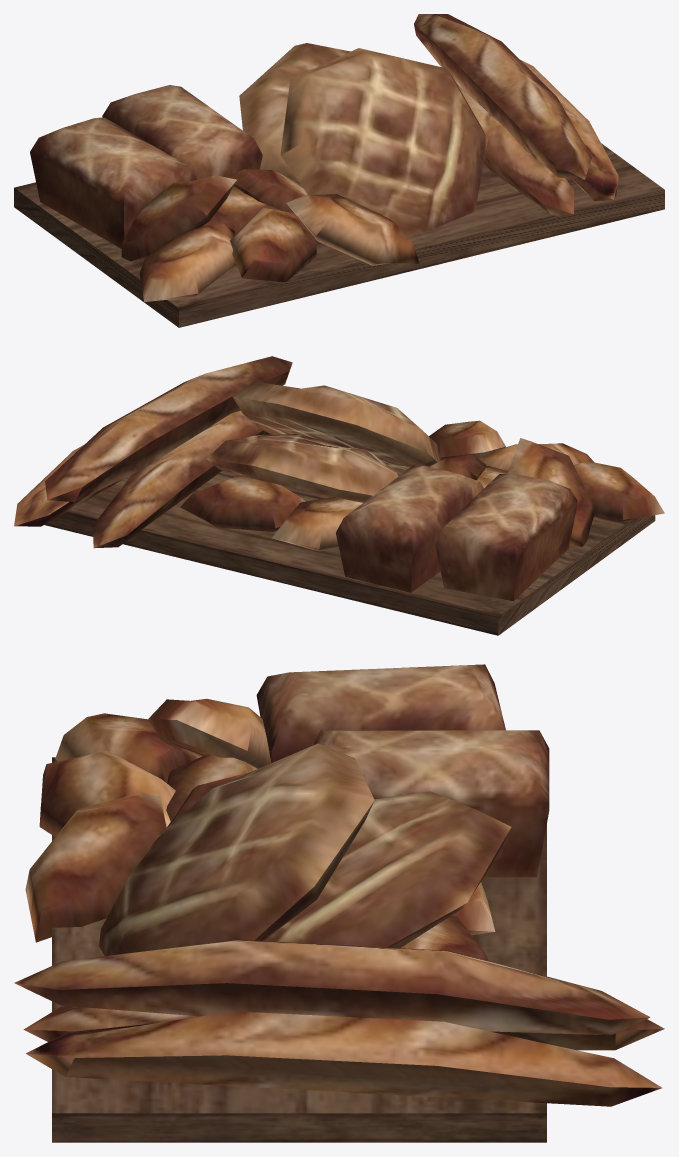
File: bread_group1.fbx
3 views of the same model, one above another, from view 1: azimuth 30°, elevation 25°; view 2: azimuth 150°, elevation 25°; view 3: azimuth 270°, elevation 25° (orthographic). The views are drawn at different scales.
Parts seen in each view (by area): view 1: bread_round_01, lod_high, bread_loaf_02, baguette_01, bread_loaf_01, bread_roll_04, bread_roll_01, bread_round_02, bread_roll_03, bread_roll_02, baguette_02, baguette_03 (+2 smaller); view 2: lod_high, bread_loaf_02, baguette_01, bread_loaf_01, bread_round_01, bread_round_02, baguette_02, bread_roll_07, bread_roll_01, bread_roll_03, bread_roll_08, bread_roll_04 (+3 smaller); view 3: baguette_03, baguette_01, lod_high, bread_round_01, bread_round_02, bread_loaf_01, bread_loaf_02, bread_roll_04, bread_roll_02, bread_roll_03, baguette_02, bread_roll_01 (+3 smaller).
Boxes of the visible parts, x1,y1,x2,y2 form: bread_round_01: (280, 48, 488, 234); lod_high: (14, 143, 664, 327); bread_loaf_02: (30, 117, 197, 248); baguette_01: (414, 14, 591, 179); bread_loaf_01: (102, 85, 262, 179); bread_roll_04: (286, 194, 419, 265); bread_roll_01: (139, 224, 235, 301); bread_round_02: (239, 43, 350, 181); bread_roll_03: (121, 175, 236, 261); bread_roll_02: (230, 208, 316, 281); baguette_02: (457, 84, 573, 215); baguette_03: (520, 59, 618, 200); lod_high: (44, 470, 655, 635); bread_loaf_02: (435, 473, 577, 601); baguette_01: (45, 356, 292, 502); bread_loaf_01: (336, 465, 483, 592); bread_round_01: (232, 381, 441, 472); bread_round_02: (206, 434, 398, 502); baguette_02: (92, 410, 271, 548); bread_roll_07: (180, 477, 305, 531); bread_roll_01: (573, 461, 664, 522); bread_roll_03: (507, 438, 594, 546); bread_roll_08: (272, 497, 362, 551); bread_roll_04: (429, 420, 505, 460); baguette_03: (26, 1011, 661, 1106); baguette_01: (14, 939, 650, 1035); lod_high: (52, 757, 546, 1142); bread_round_01: (98, 743, 374, 955); bread_round_02: (264, 791, 511, 948); bread_loaf_01: (313, 730, 549, 877); bread_loaf_02: (256, 664, 505, 762); bread_roll_04: (25, 792, 166, 942); bread_roll_02: (39, 750, 175, 836); bread_roll_03: (148, 698, 270, 768); baguette_02: (23, 1006, 664, 1050); bread_roll_01: (55, 713, 191, 783).
Size of the model in its own units: 241 by 62.35 by 178.
1 material, 1 textured.
